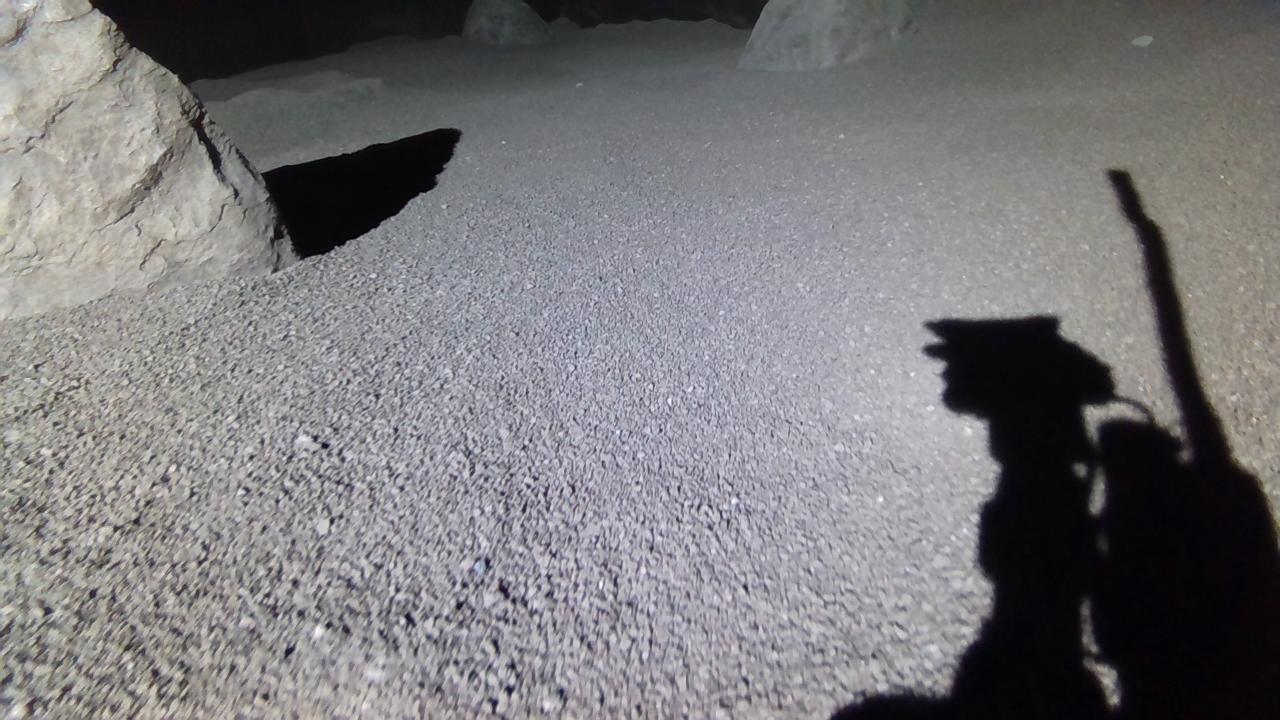rock: (0, 0, 293, 319), (739, 0, 914, 69), (462, 0, 550, 44)
